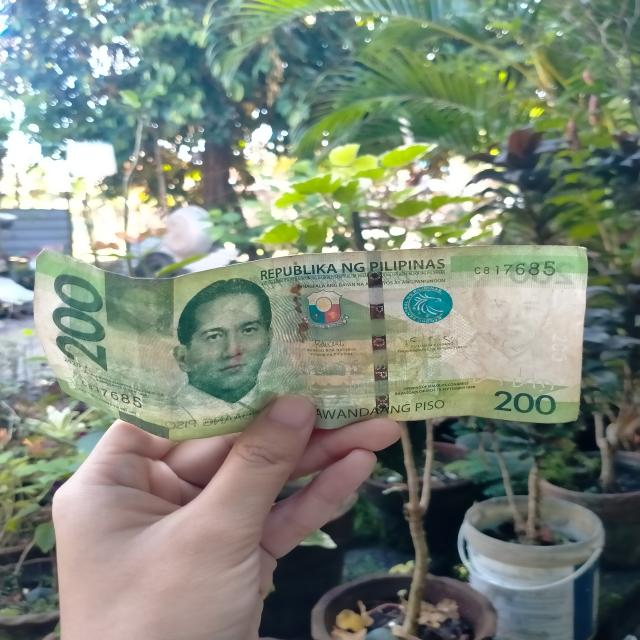concealed_value: (106, 271, 180, 336)
security_thread: (367, 250, 392, 422)
see_through_mark: (467, 368, 558, 397)
serial_number: (468, 257, 556, 280)
value: (42, 267, 118, 374)
value_watermark: (547, 330, 565, 365)
watermark: (459, 272, 547, 374)
